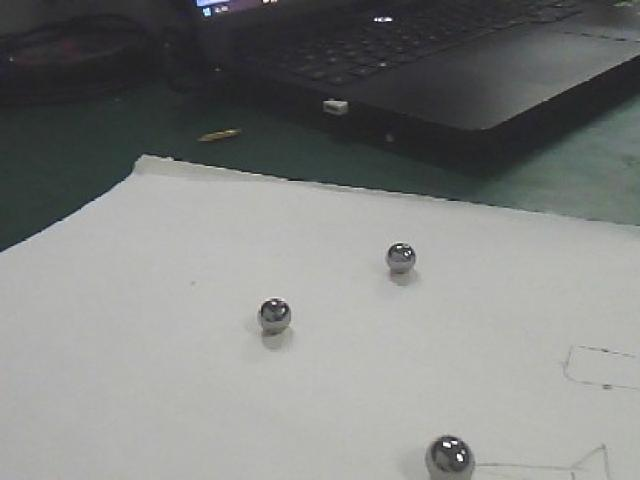steel-ball: (404, 419, 478, 476), (251, 283, 300, 342), (377, 240, 417, 283)
